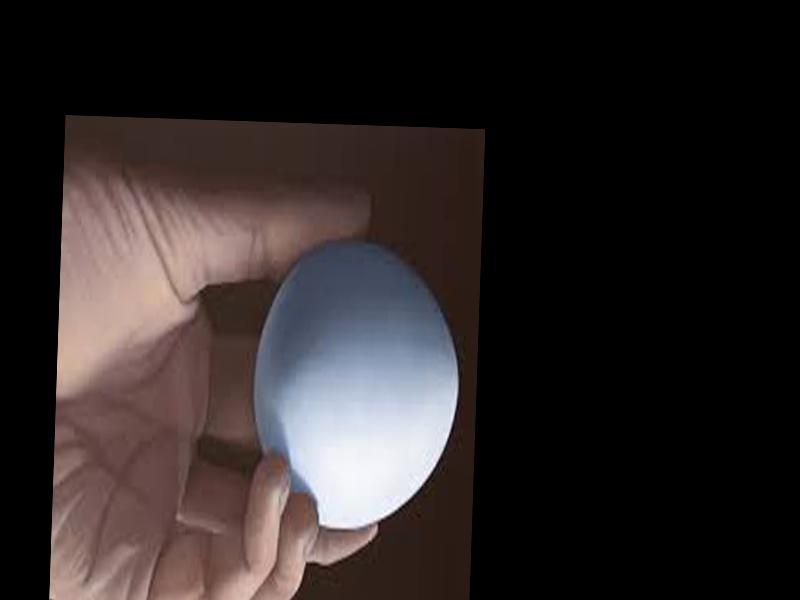Eggs: (251, 240, 464, 535)
